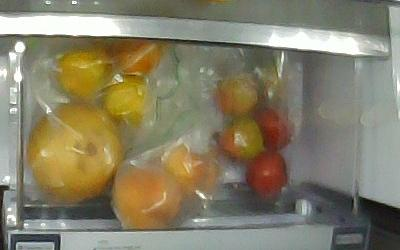peach_vinyl: (114, 165, 180, 230), (162, 144, 219, 195)
pear_vinyl: (27, 102, 124, 199)
tangerine_vinyl: (61, 52, 108, 101), (106, 80, 152, 128), (113, 42, 165, 80), (90, 44, 117, 77)
tomato_vinyl: (216, 118, 264, 162), (247, 150, 287, 198), (215, 75, 256, 117), (254, 107, 290, 149), (253, 66, 282, 106)
